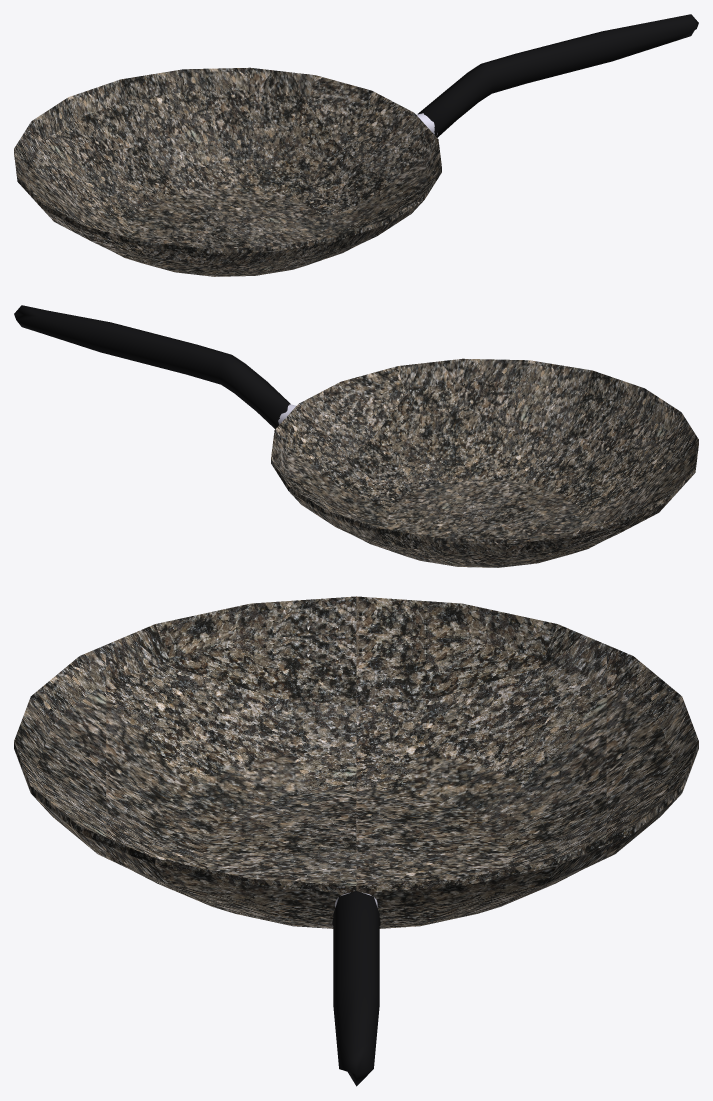
Rendered from tavafbx.fbx.
The picture shows the model from 3 angles, top to bottom: view 1: azimuth 30°, elevation 25°; view 2: azimuth 150°, elevation 25°; view 3: azimuth 270°, elevation 25°; orthographic projection. The views are drawn at different scales.
Visible parts, largest first — view 1: pSphere1, pCube1; view 2: pSphere1, pCube1; view 3: pSphere1, pCube1.
Boxes of the visible parts, left/top/right/bottom form: pSphere1: left=14, top=67, right=441, bottom=276; pCube1: left=418, top=14, right=698, bottom=137; pSphere1: left=271, top=358, right=698, bottom=567; pCube1: left=14, top=305, right=290, bottom=429; pSphere1: left=14, top=596, right=698, bottom=928; pCube1: left=332, top=891, right=380, bottom=1086.
Bounding box in the file's own units: 10.25 × 1.62 × 5.81.
Materials: 3 (1 with a texture image).
